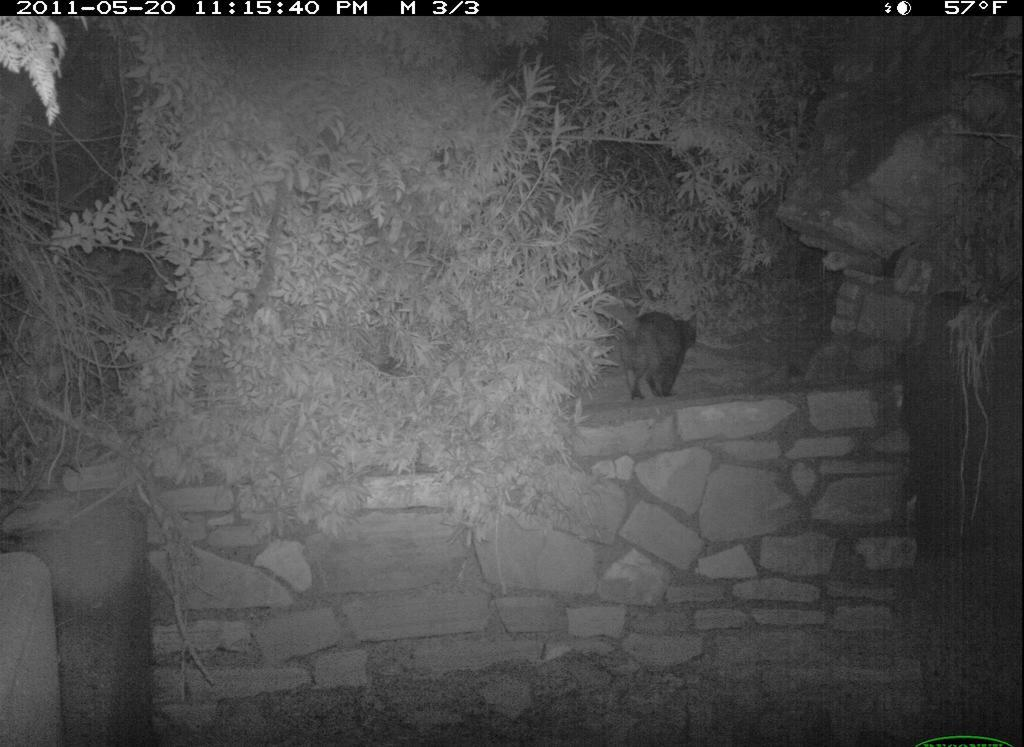cat: (596, 290, 721, 401)
